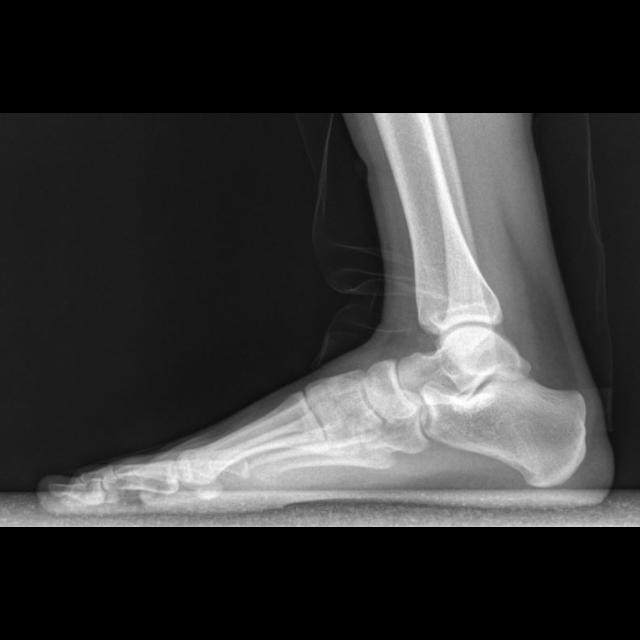a: (420, 374, 585, 487)
b: (362, 360, 421, 424)
c: (176, 389, 330, 502)
